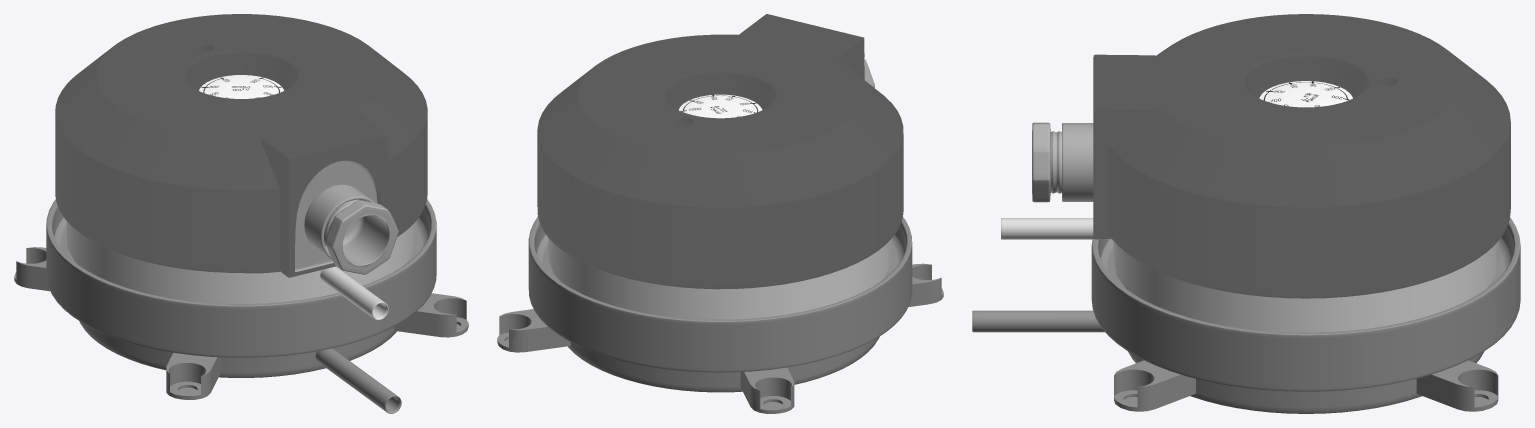
File: airflow_switch .glb
3 views of the same model, side by side, from view 1: azimuth 30°, elevation 25°; view 2: azimuth 150°, elevation 25°; view 3: azimuth 270°, elevation 25° (orthographic). The views are drawn at different scales.
Parts seen in each view (by area): view 1: Plane.006; view 2: Plane.006; view 3: Plane.006.
Boxes of the visible parts, x1,y1,x2,y2 form: Plane.006: [14, 14, 468, 413]; Plane.006: [497, 14, 943, 413]; Plane.006: [972, 14, 1520, 413].
Size of the model in its own units: 6.25 by 4.14 by 8.
8 materials, 1 textured.
